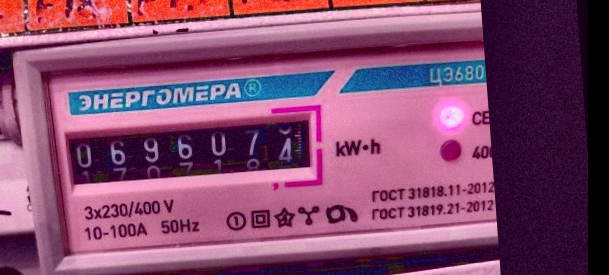0: (72, 139, 95, 169), (209, 127, 229, 157), (108, 137, 127, 164)
4: (276, 135, 295, 164)
6: (174, 129, 194, 160)
7: (242, 125, 262, 155)
9: (141, 134, 161, 163)
screen: (50, 100, 329, 203)
